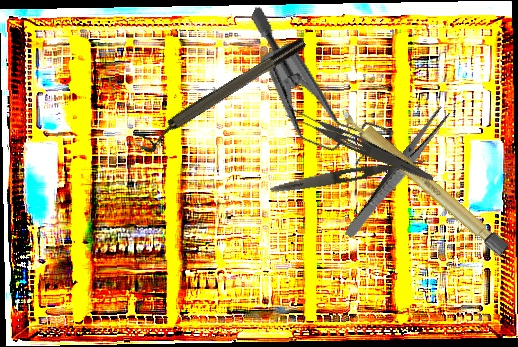Dressing Forceps: (342, 104, 453, 243), (284, 104, 438, 185), (269, 152, 428, 198)
Fixation Ring: (132, 34, 313, 157)
Scalpel Handle: (336, 103, 512, 258)
Speculum: (213, 3, 424, 178)
